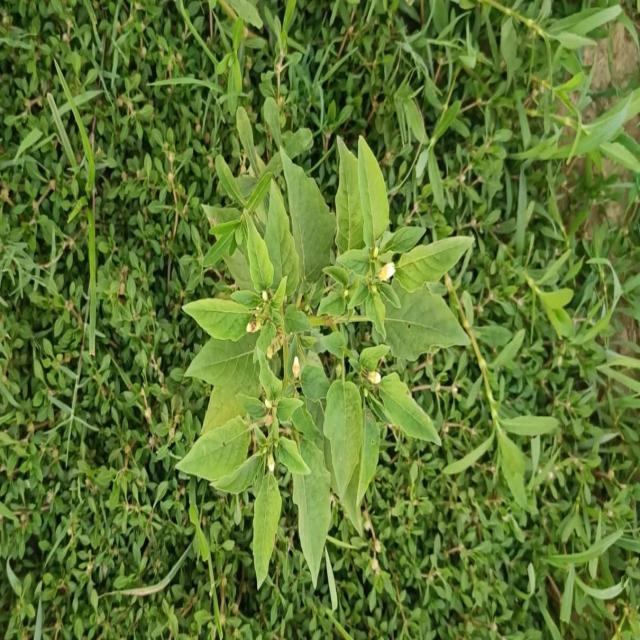weed: (177, 133, 475, 587)
